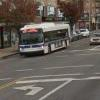Bus: (14, 19, 72, 55)
